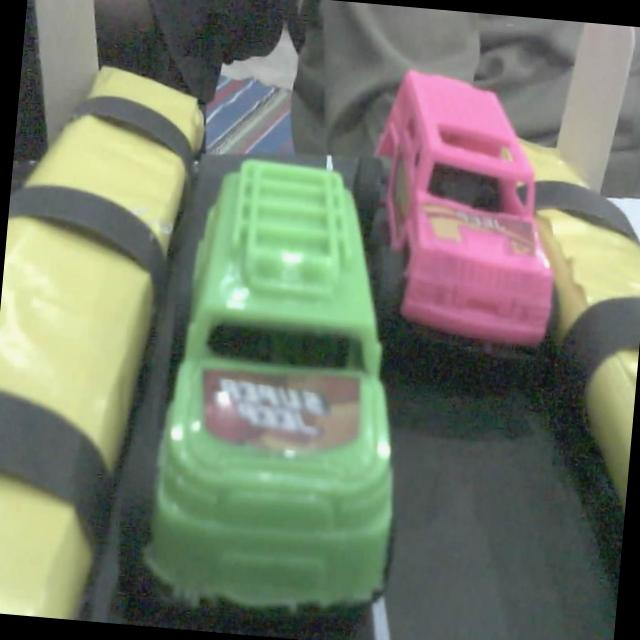TwoCar: (135, 155, 394, 640), (349, 50, 585, 352)
